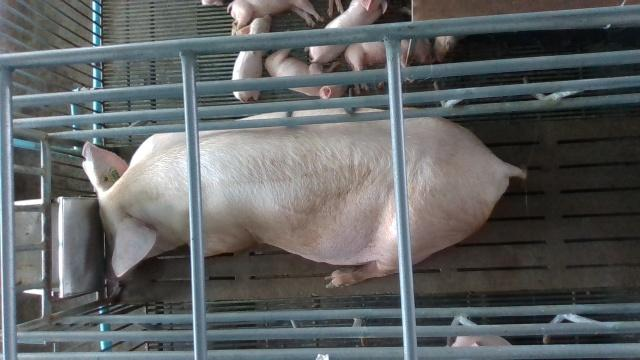piglet: (308, 0, 388, 63), (263, 48, 349, 99), (231, 15, 270, 102), (228, 0, 323, 28), (344, 40, 410, 68)
sow-sit: (83, 108, 526, 288)
